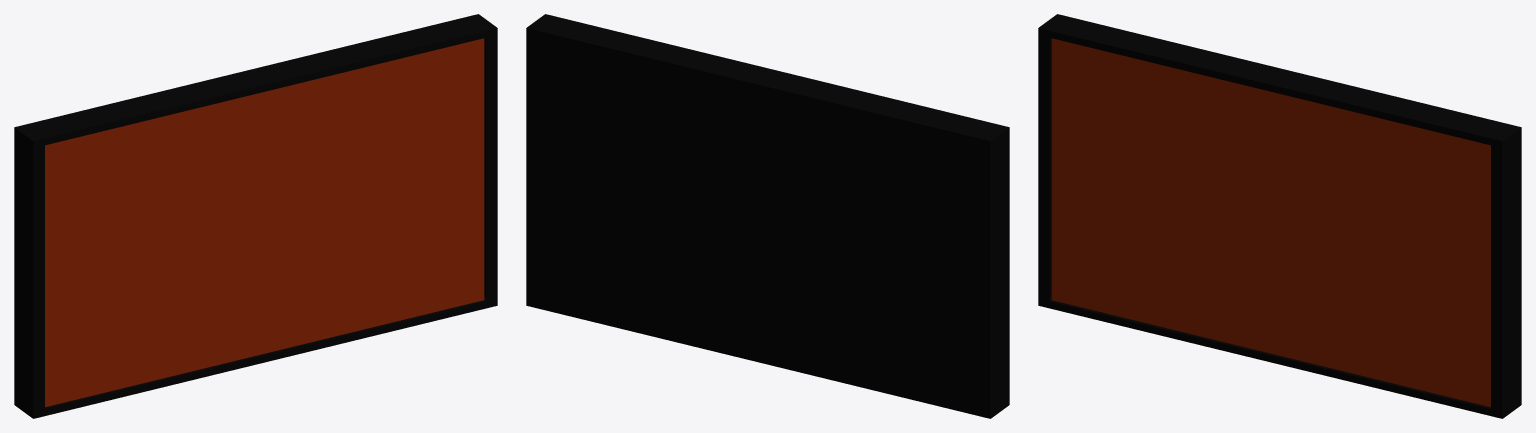
3 renders of one model, left to right at view 1: azimuth 30°, elevation 25°; view 2: azimuth 150°, elevation 25°; view 3: azimuth 330°, elevation 25°, orthographic.
Visible parts, largest first — view 1: Glass; view 2: Glass; view 3: Glass.
Boxes of the visible parts, left/top/right/bottom form: Glass: left=14, top=14, right=497, bottom=418; Glass: left=526, top=14, right=1009, bottom=418; Glass: left=1038, top=14, right=1521, bottom=418.
Bounding box in the file's own units: 0.7 × 0.4 × 0.05.
